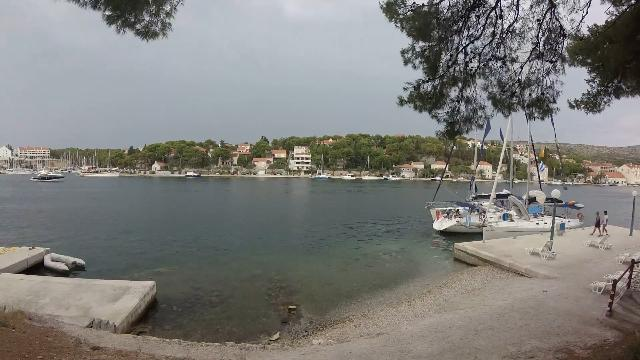speedboat: (24, 166, 68, 184)
